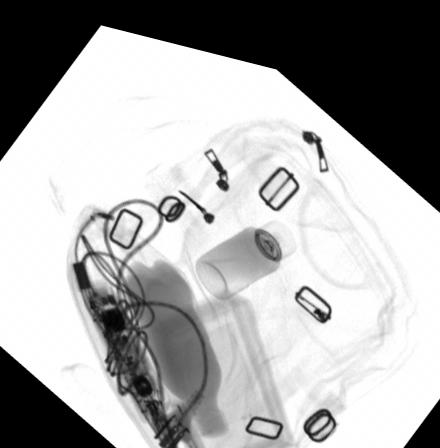Lighter: (164, 390, 214, 448)
Sprayer: (194, 205, 296, 287)
